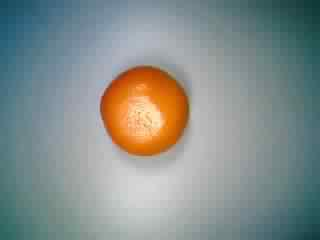orange: (93, 61, 190, 159)
